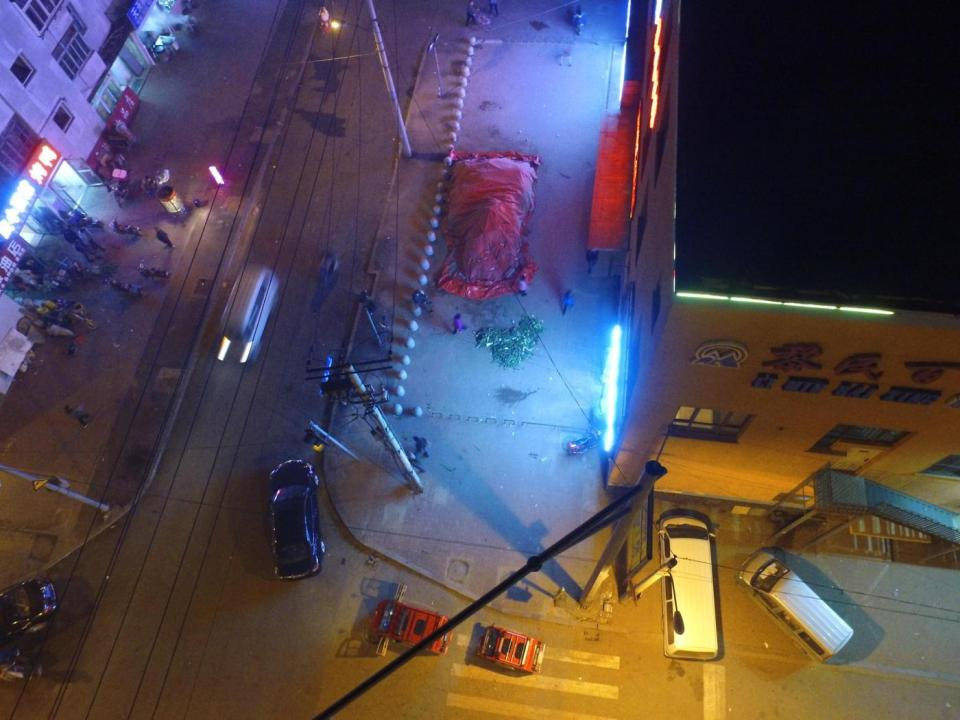car: (266, 459, 326, 580), (0, 578, 58, 645), (66, 208, 104, 229), (107, 276, 146, 296), (109, 216, 142, 237), (136, 259, 170, 279)
van: (734, 550, 853, 662), (659, 514, 717, 659), (220, 262, 280, 363)
